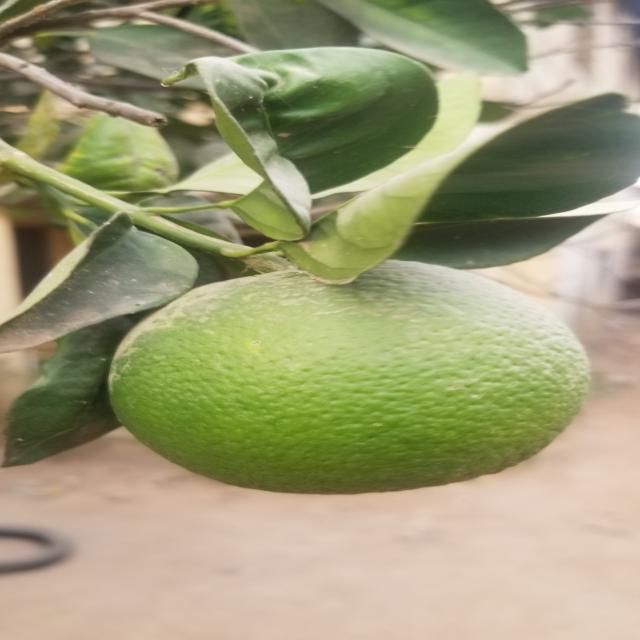Unripe: (105, 262, 598, 505)
